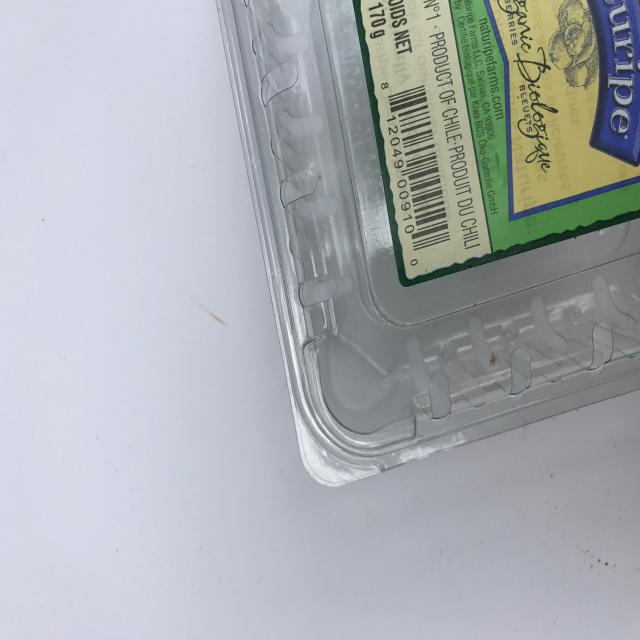plastic: (213, 0, 640, 487)
